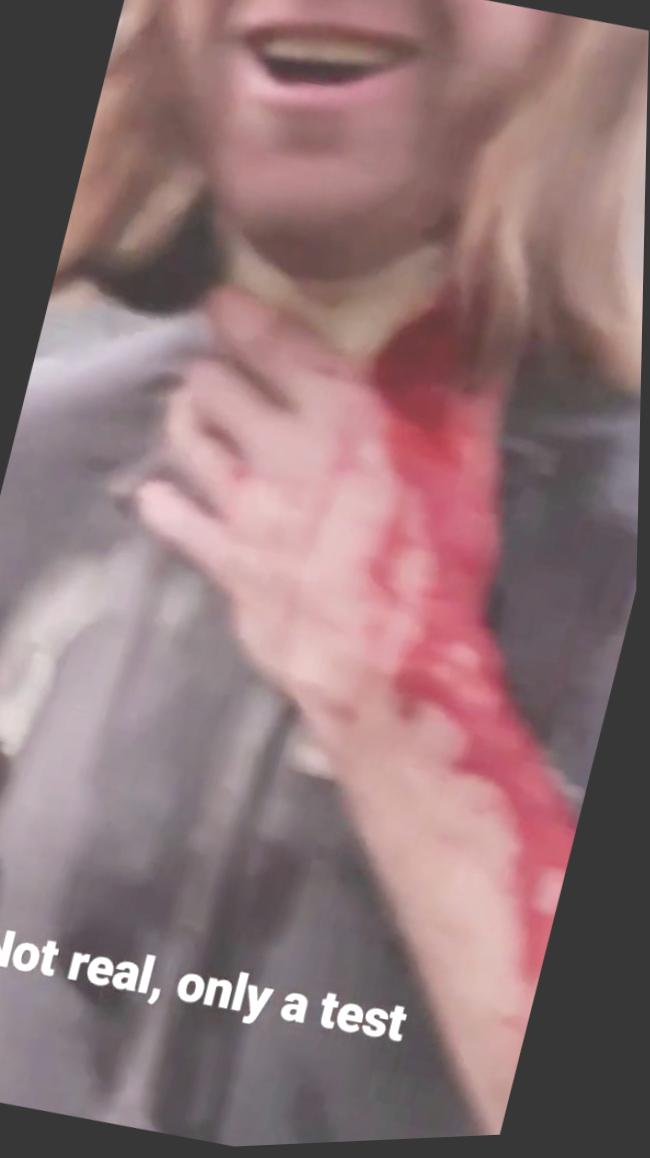Fire: (372, 308, 582, 1005)
